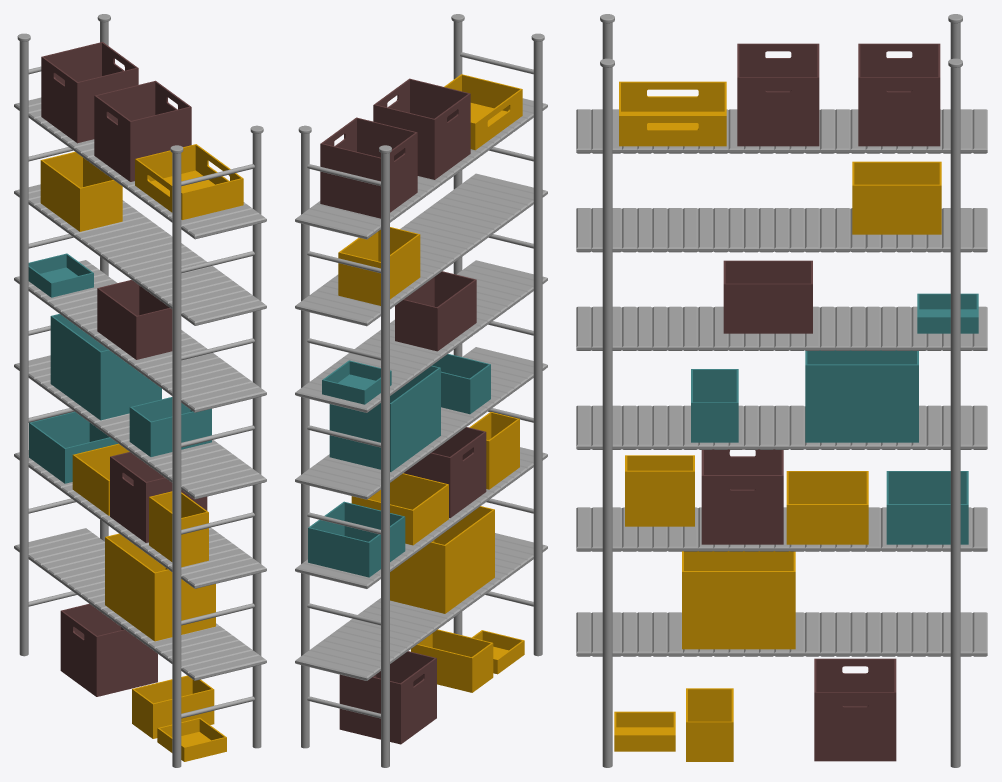
File: BoxShelves03.fbx
The picture shows the model from 3 angles, left to right: view 1: azimuth 30°, elevation 25°; view 2: azimuth 150°, elevation 25°; view 3: azimuth 270°, elevation 25°; orthographic projection. The views are drawn at different scales.
Parts seen in each view (by area): view 1: BoxShelves03; view 2: BoxShelves03; view 3: BoxShelves03.
Part boxes in pixels (left/top/right/bottom): BoxShelves03: left=14, top=14, right=266, bottom=767; BoxShelves03: left=295, top=14, right=547, bottom=767; BoxShelves03: left=576, top=14, right=987, bottom=767.
Size of the model in its own units: 33.56 by 217 by 115.
